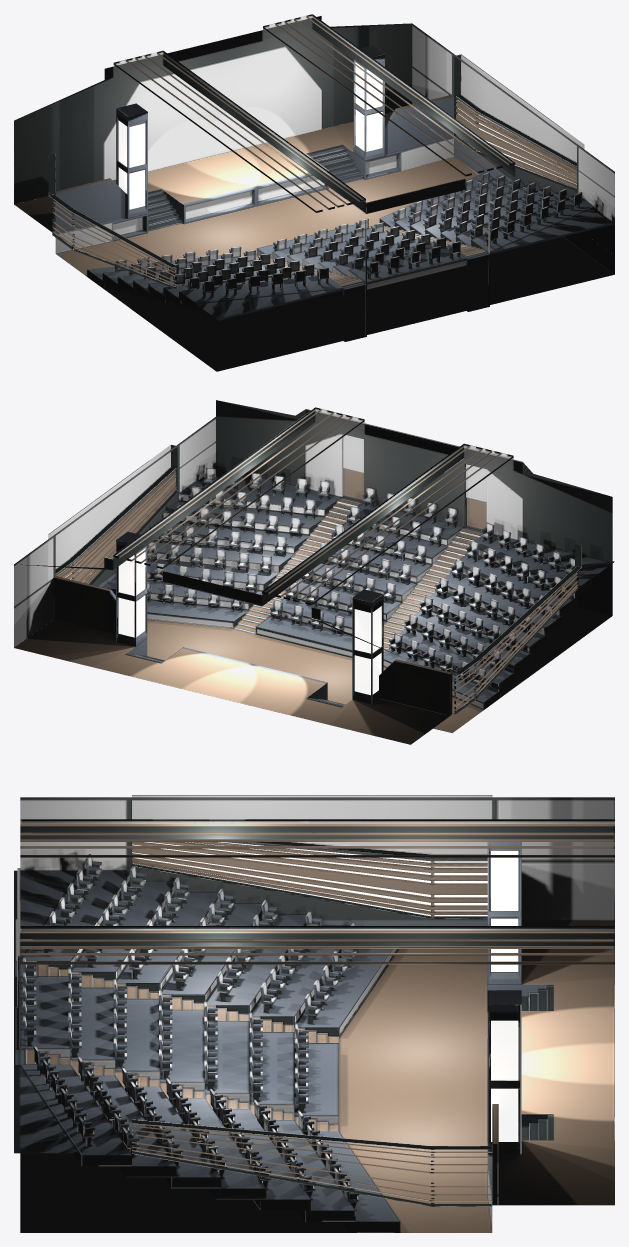
Rendered from auditorium.glb.
3 views of the same model, one above another, from view 1: azimuth 30°, elevation 25°; view 2: azimuth 150°, elevation 25°; view 3: azimuth 270°, elevation 25° (orthographic). The views are drawn at different scales.
Parts seen in each view (by area): view 1: BuildingArchitecture.001_0; view 2: BuildingArchitecture.001_0; view 3: BuildingArchitecture.001_0.
Part boxes in pixels (bbox=[...]): BuildingArchitecture.001_0: bbox=[14, 14, 614, 371]; BuildingArchitecture.001_0: bbox=[14, 400, 614, 744]; BuildingArchitecture.001_0: bbox=[14, 795, 614, 1232].
Size of the model in its own units: 22.8 by 7.2 by 19.61.
Materials: 2 (2 with a texture image).
